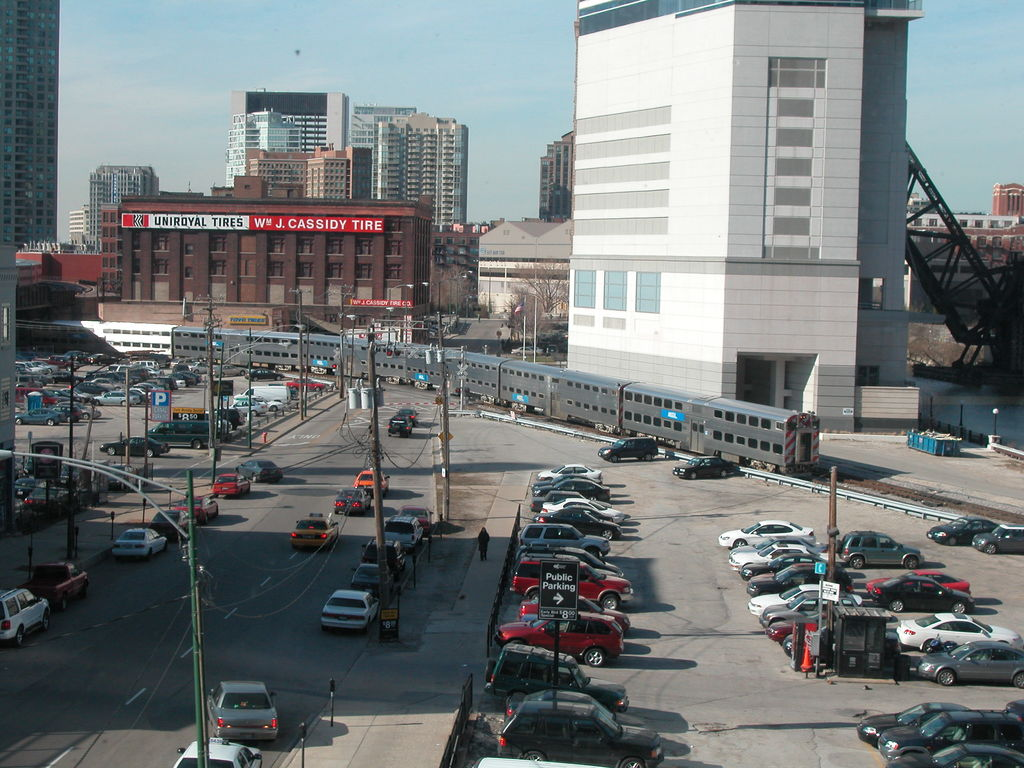mobil: (192, 676, 285, 749), (899, 610, 1016, 655), (836, 528, 932, 569), (712, 518, 817, 549), (317, 587, 374, 633), (926, 510, 993, 546), (676, 454, 740, 488), (286, 507, 334, 552), (110, 524, 169, 559), (601, 437, 664, 464), (206, 470, 256, 500)
